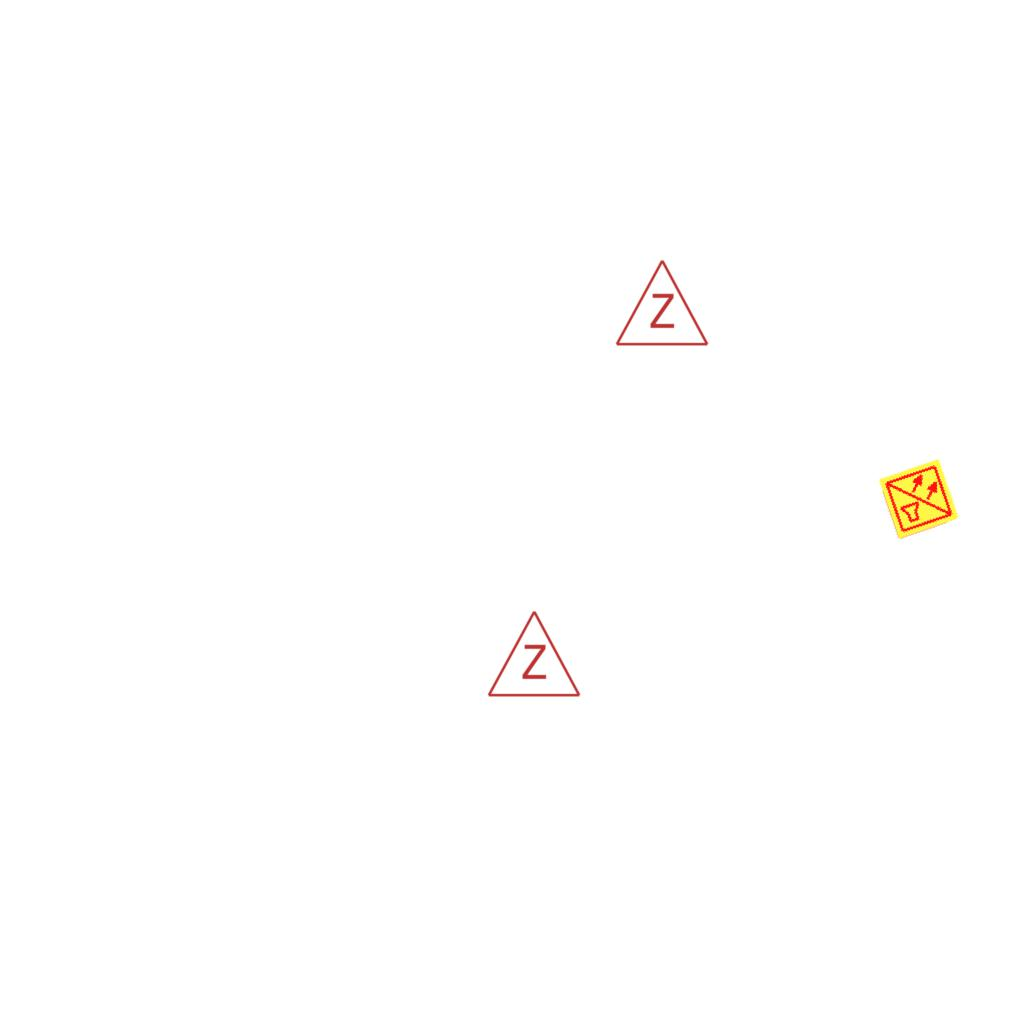OKW_Multisensormelder_(Kombination_optischer_Rauch-Kahlenmonoxid_Waerme-Melder): (877, 457, 961, 541)
Zimmersignalleuchte: (484, 604, 582, 704), (612, 253, 710, 353)
